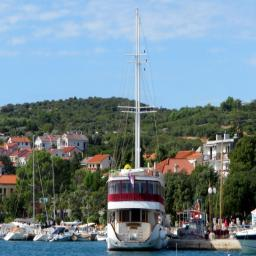cruises: (106, 152, 169, 254)
